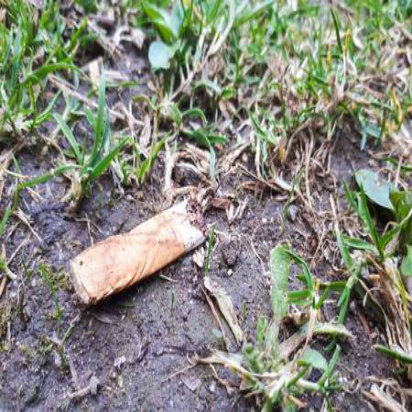cigarette: (65, 201, 210, 306)
